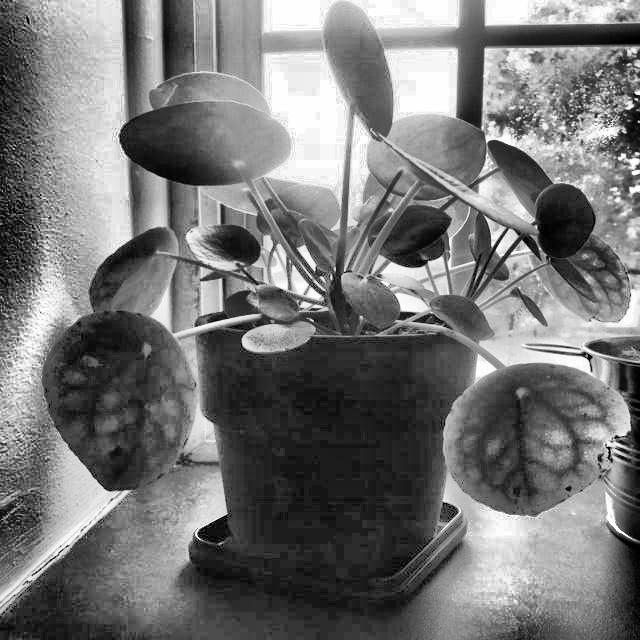plants: (57, 15, 635, 595), (456, 360, 623, 519)
